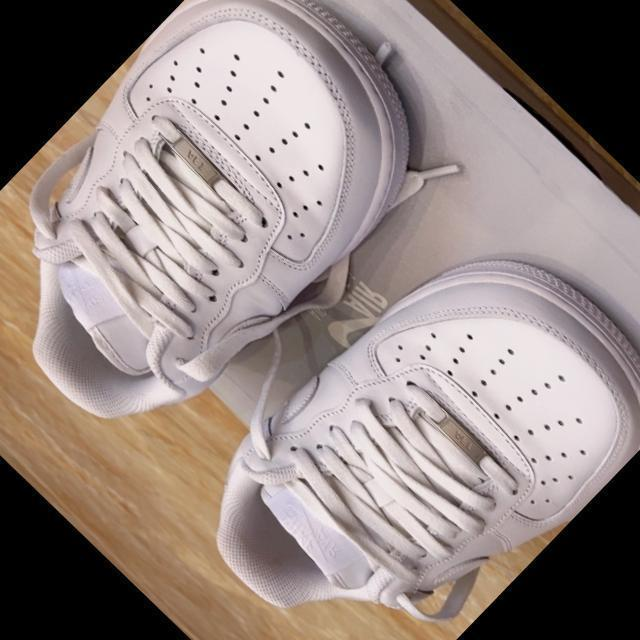nike original air force: (0, 0, 484, 492), (153, 178, 640, 640)
